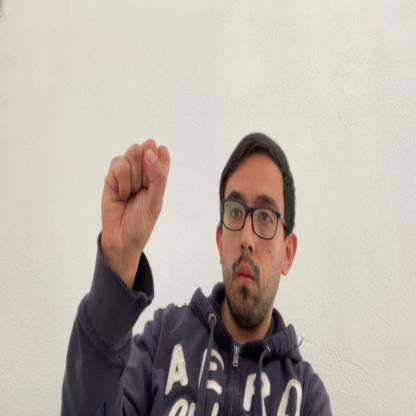S: (101, 145, 170, 255)
